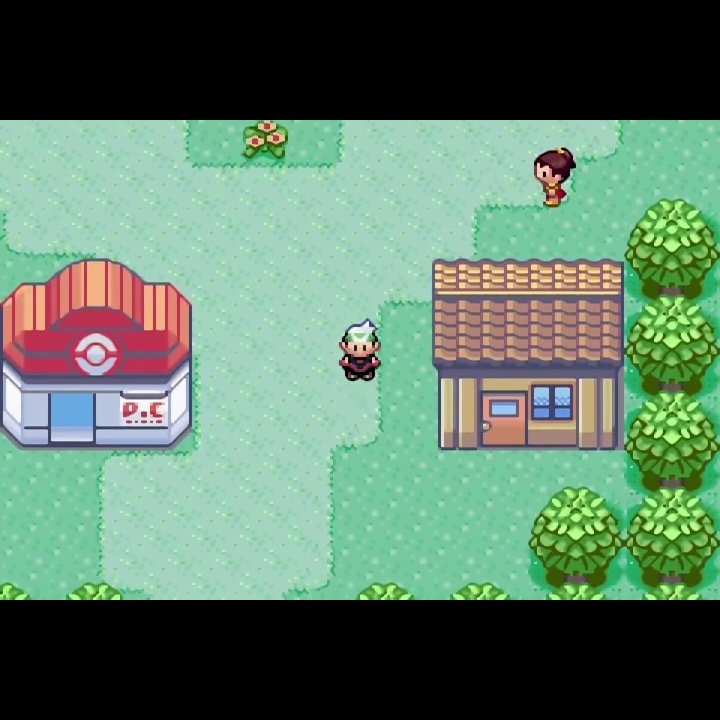house: (428, 257, 626, 457)
npc: (532, 144, 580, 213), (335, 315, 381, 384)
pokecen: (1, 257, 196, 451)
wall: (624, 195, 720, 301), (624, 390, 720, 493), (625, 295, 720, 397), (527, 486, 625, 582), (624, 487, 720, 577), (527, 576, 627, 600), (625, 576, 720, 600)
